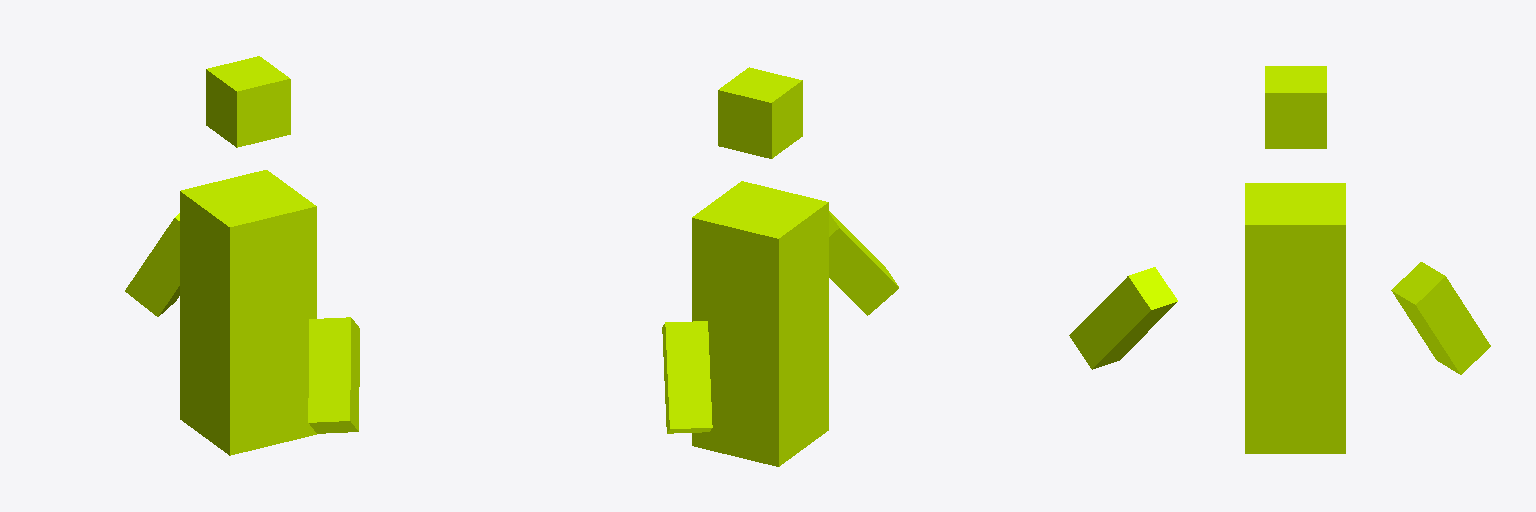
The picture shows the model from 3 angles: view 1: azimuth 30°, elevation 25°; view 2: azimuth 150°, elevation 25°; view 3: azimuth 270°, elevation 25°; orthographic projection.
Visible parts, largest first — view 1: 立方体.001, 立方体, 立方体.003, 立方体.002; view 2: 立方体.001, 立方体, 立方体.002, 立方体.003; view 3: 立方体.001, 立方体.003, 立方体.002, 立方体.
Boxes of the visible parts, x1,y1,x2,y2 form: 立方体.001: [180, 170, 316, 455]; 立方体: [206, 56, 290, 147]; 立方体.003: [308, 317, 359, 433]; 立方体.002: [125, 213, 179, 316]; 立方体.001: [692, 181, 828, 466]; 立方体: [718, 67, 802, 158]; 立方体.002: [662, 321, 712, 433]; 立方体.003: [829, 211, 898, 315]; 立方体.001: [1245, 183, 1345, 453]; 立方体.003: [1069, 267, 1177, 369]; 立方体.002: [1391, 262, 1490, 374]; 立方体: [1265, 66, 1326, 148].
Bounding box in the file's own units: 0.8126 × 3.15 × 3.42.
Materials: 1 (1 with a texture image).